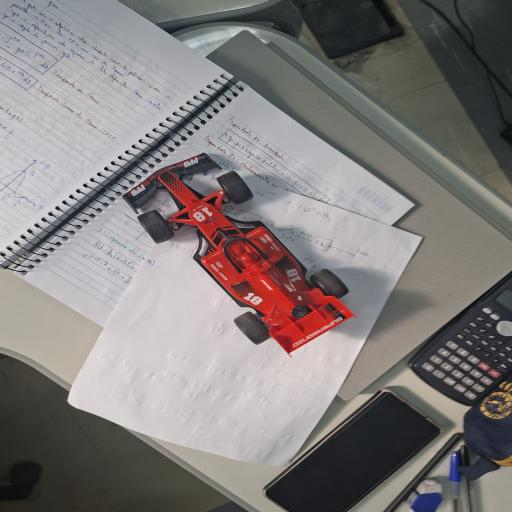carro: (124, 154, 353, 353)
